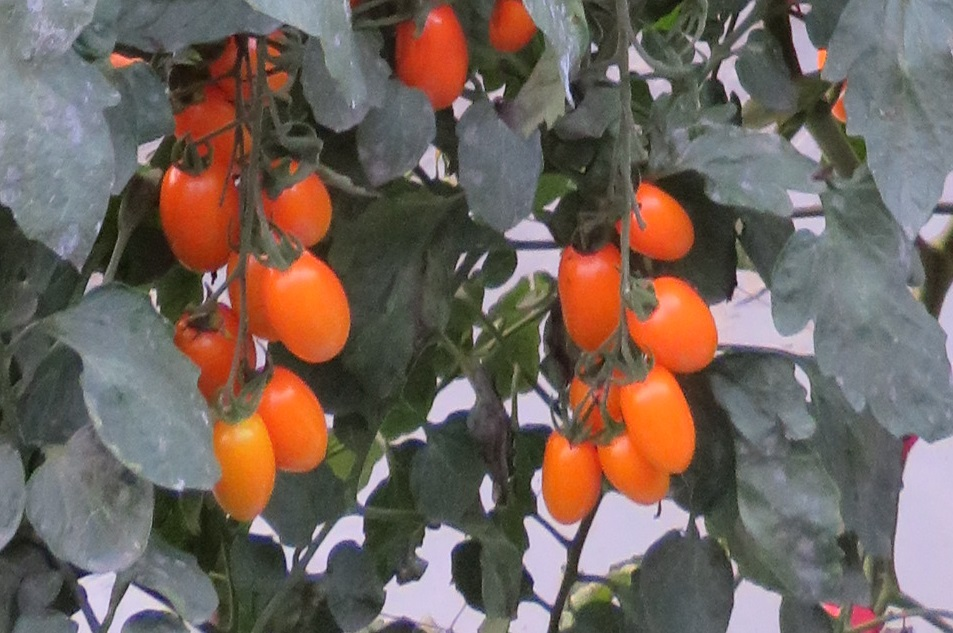orange: (159, 142, 244, 275), (262, 250, 352, 366), (200, 406, 279, 522), (618, 361, 696, 474), (625, 281, 719, 374), (391, 5, 471, 113), (259, 367, 336, 474), (558, 233, 621, 354), (257, 155, 333, 249), (614, 184, 696, 261), (208, 27, 292, 97), (175, 302, 244, 384), (543, 429, 601, 525), (597, 433, 670, 505), (173, 85, 249, 152), (570, 359, 620, 430), (487, 6, 539, 60)
